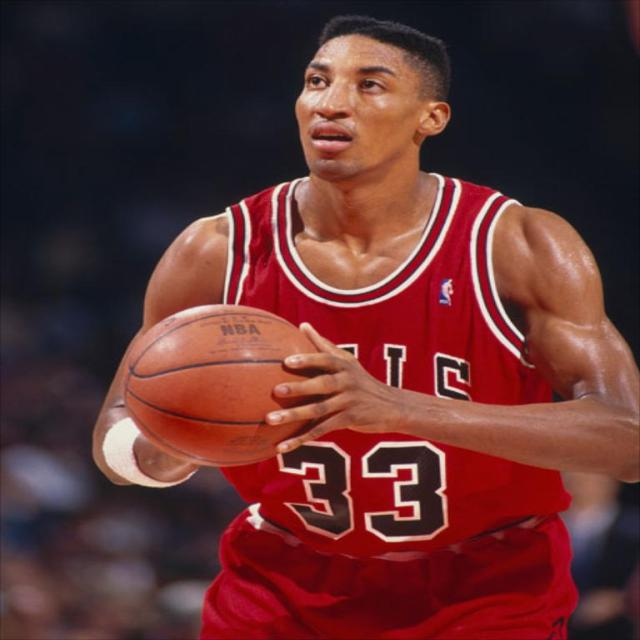Ball: (121, 304, 324, 466)
